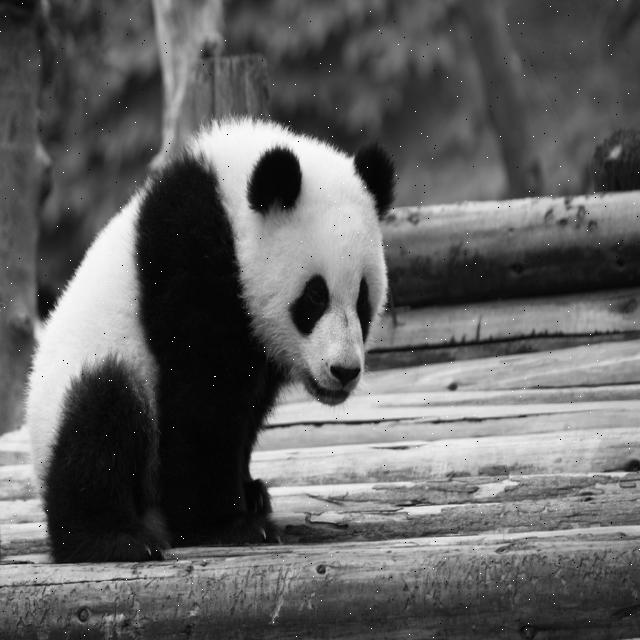panda: (26, 113, 398, 558)
